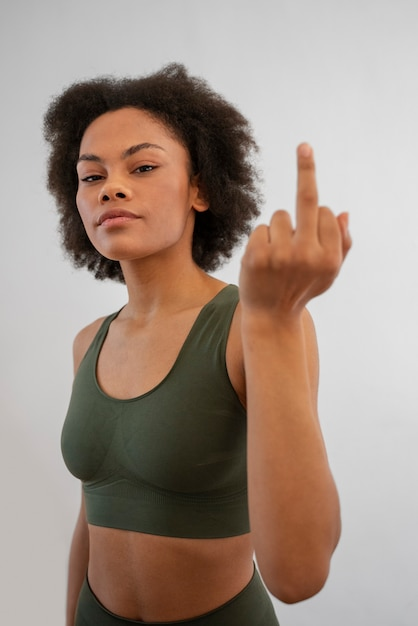insulting_gesture: (238, 140, 357, 316)
